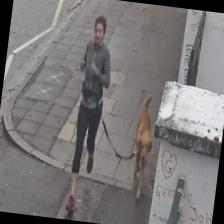person: (61, 12, 116, 214)
